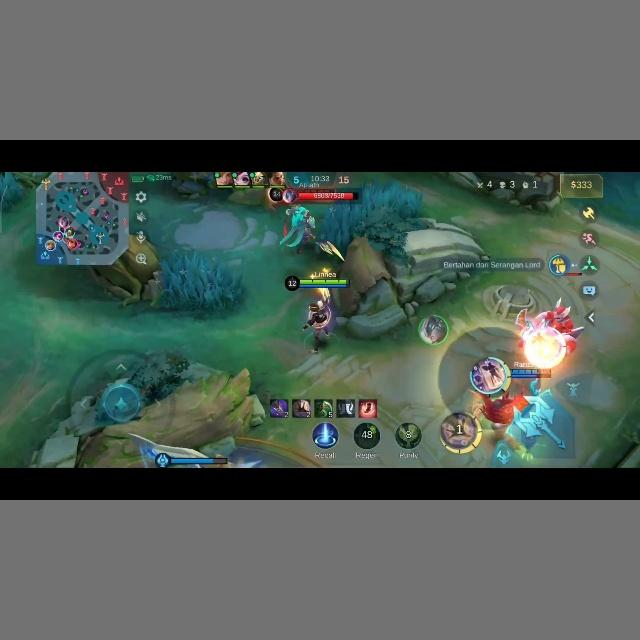hp_enemy: (298, 189, 355, 199), (568, 272, 584, 278)
hp_self: (284, 275, 351, 290)
minion_enemy: (550, 301, 576, 333)
